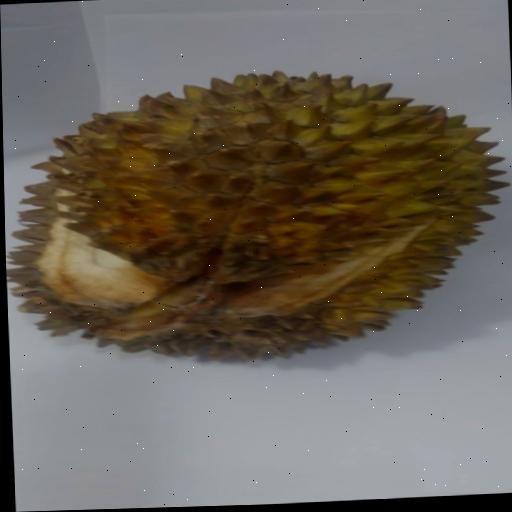rot: (1, 46, 512, 383)
